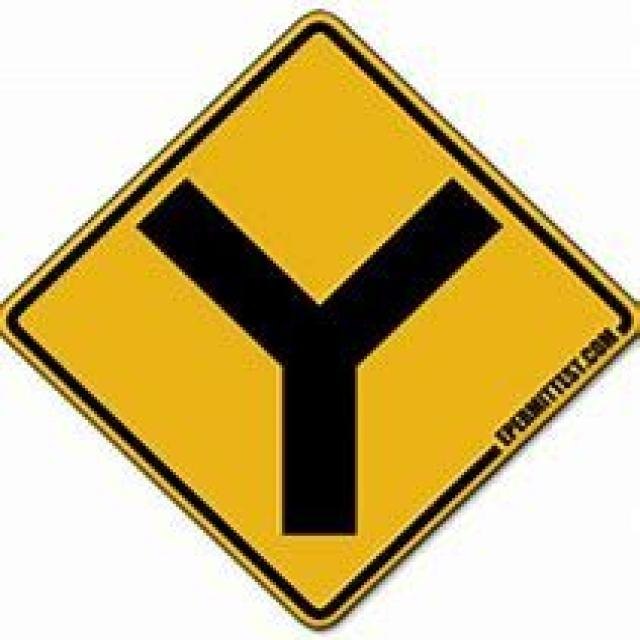y intersection: (32, 43, 580, 592)
